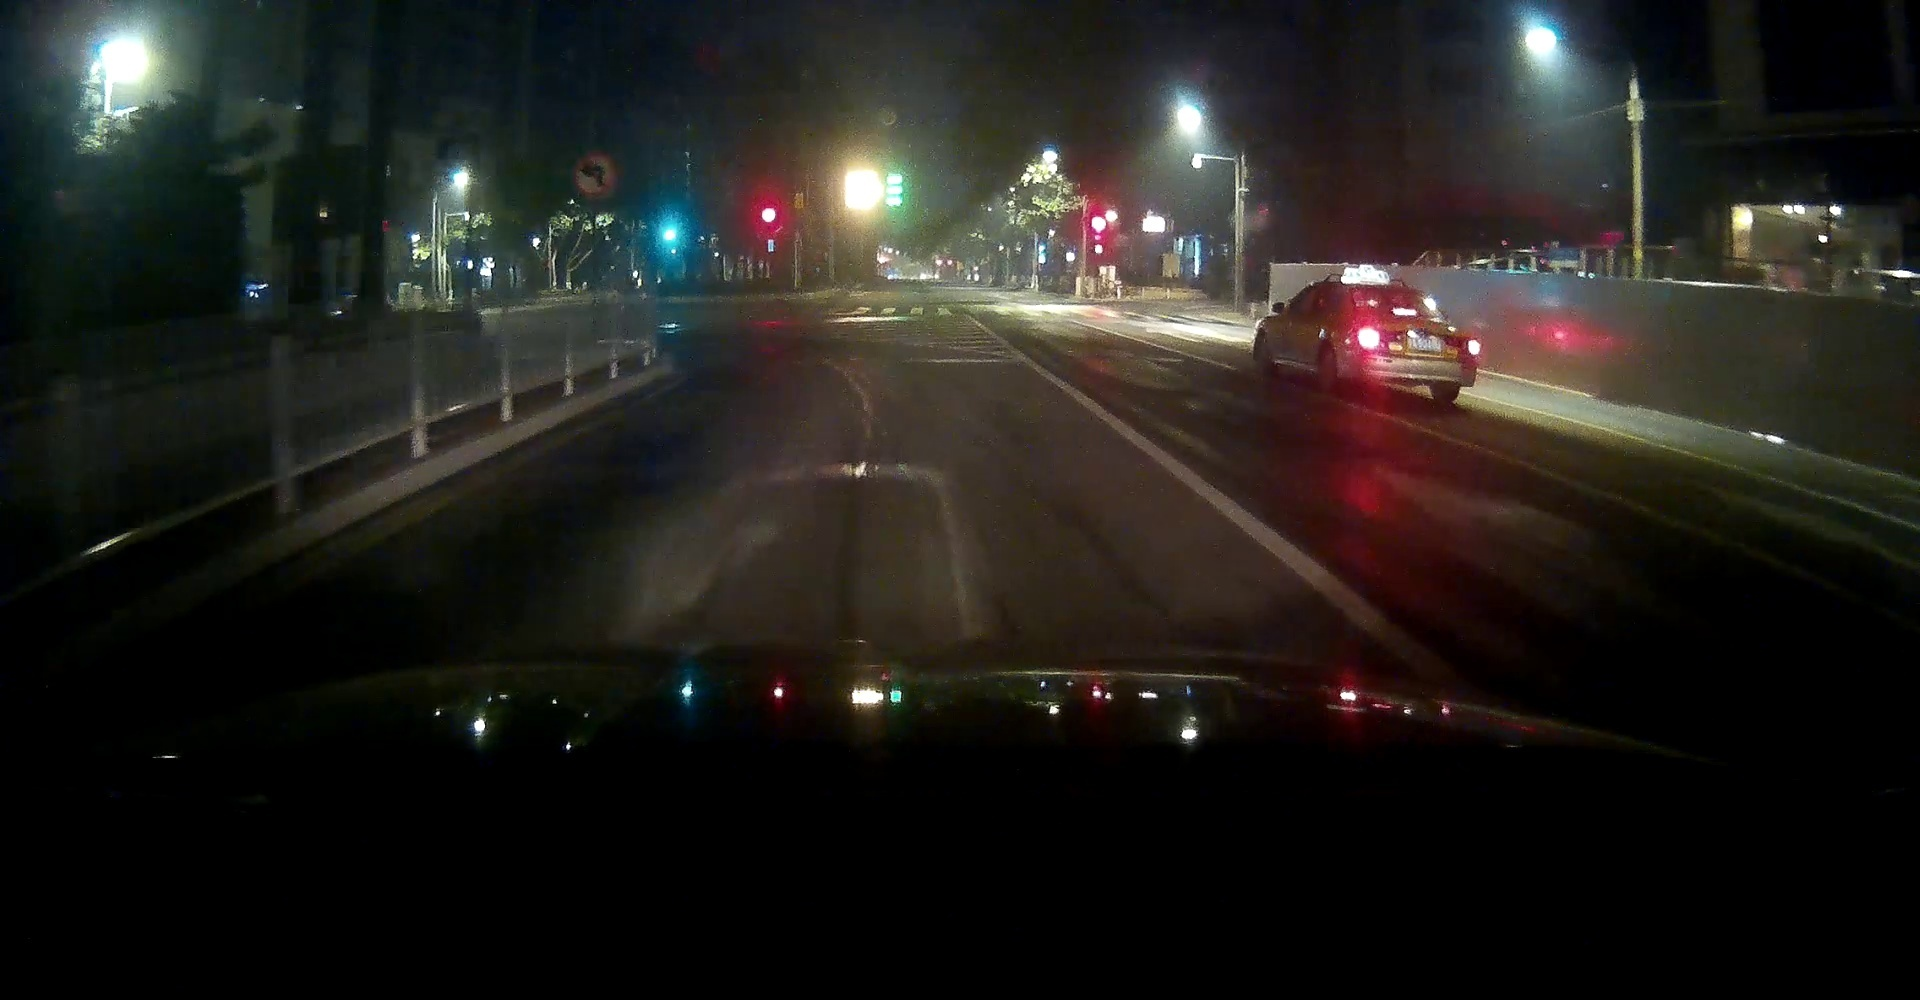L_light: (1357, 326, 1382, 350)
R_light: (1465, 338, 1481, 355)
T_light: (1392, 308, 1417, 316)
night-brake: (1346, 286, 1481, 404)
